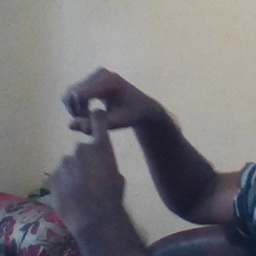Q: (52, 67, 148, 206)
